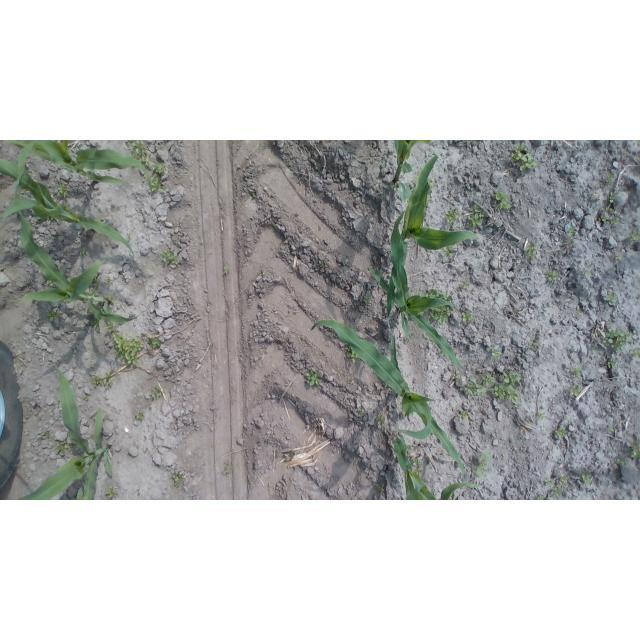Maize: (309, 319, 465, 477), (387, 156, 478, 332), (367, 202, 461, 369), (18, 211, 145, 324), (1, 159, 136, 258), (19, 362, 114, 500), (8, 141, 153, 200), (393, 436, 483, 500), (392, 141, 432, 204), (77, 488, 84, 501)
Weeds: (104, 321, 144, 365), (490, 370, 523, 406), (603, 328, 633, 353), (511, 145, 538, 171), (463, 373, 494, 395), (475, 450, 492, 479), (131, 141, 149, 168), (418, 288, 453, 301), (469, 203, 487, 227), (430, 307, 451, 325), (493, 190, 511, 210), (55, 440, 74, 458), (446, 208, 462, 228), (304, 369, 320, 386), (161, 250, 180, 264), (545, 270, 560, 287), (523, 242, 537, 260), (151, 176, 166, 192), (569, 382, 583, 398), (600, 172, 614, 188), (629, 438, 640, 458), (580, 466, 592, 484), (172, 471, 183, 489), (413, 457, 424, 475), (376, 414, 388, 430), (103, 372, 114, 389), (106, 485, 119, 499), (580, 263, 593, 277), (442, 246, 456, 259), (46, 309, 61, 321), (147, 336, 162, 348), (150, 386, 163, 399), (346, 351, 359, 364), (530, 336, 542, 350), (57, 183, 68, 198), (89, 320, 101, 333), (90, 376, 102, 389), (461, 312, 475, 323), (630, 229, 640, 244), (554, 426, 566, 438), (570, 366, 582, 378), (629, 348, 640, 361), (605, 293, 618, 304), (152, 164, 164, 175), (607, 357, 618, 369), (356, 406, 368, 416), (551, 486, 561, 498), (221, 464, 231, 476), (532, 494, 550, 500), (458, 410, 470, 419), (90, 283, 98, 296), (135, 411, 145, 421), (566, 226, 576, 236), (375, 482, 385, 492), (80, 247, 89, 257), (491, 348, 501, 357), (42, 430, 51, 440), (462, 281, 471, 290), (544, 476, 552, 486), (612, 216, 620, 226), (365, 293, 371, 306), (538, 411, 547, 419), (560, 476, 568, 485), (609, 192, 615, 204), (429, 178, 436, 188), (406, 332, 414, 340), (615, 254, 623, 262), (251, 192, 258, 201), (617, 458, 626, 465), (577, 307, 584, 316), (125, 140, 132, 148), (107, 295, 115, 302), (452, 372, 459, 380), (406, 444, 412, 453), (35, 216, 42, 223), (206, 299, 213, 306), (223, 267, 230, 274), (606, 206, 614, 212), (47, 280, 54, 286), (607, 425, 614, 431), (599, 215, 606, 221), (500, 453, 506, 460), (83, 396, 89, 403), (105, 276, 110, 283), (380, 163, 385, 169), (261, 268, 266, 274), (318, 260, 324, 265), (345, 346, 351, 351), (592, 346, 597, 351), (587, 294, 593, 298), (347, 379, 351, 383)
